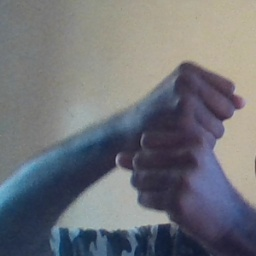G: (131, 56, 243, 214)
